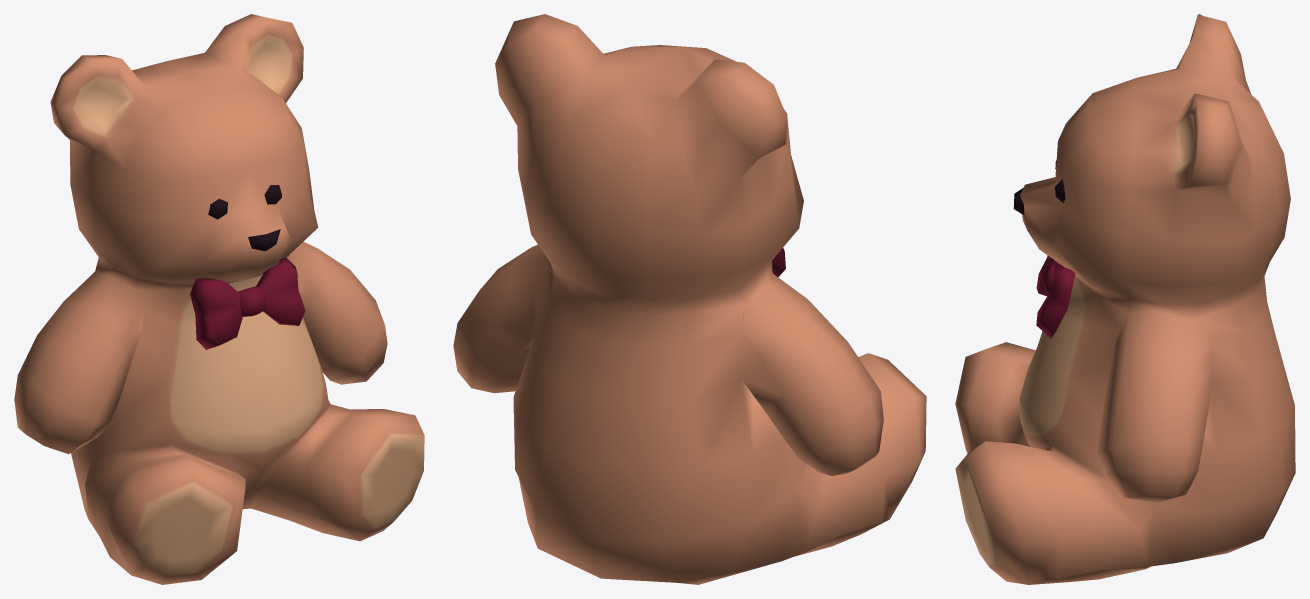
Rendered from Low_poly_asset_Teddy_Bear.glb.
3 views of the same model, side by side, from view 1: azimuth 30°, elevation 25°; view 2: azimuth 150°, elevation 25°; view 3: azimuth 270°, elevation 25° (orthographic). The views are drawn at different scales.
Parts seen in each view (by area): view 1: bear_Teddy Bear_0, Plane_Teddy Bear_0, eye_r.001_Teddy Bear_0; view 2: bear_Teddy Bear_0; view 3: bear_Teddy Bear_0, Plane_Teddy Bear_0.
Part boxes in pixels (bbox=[...]): bear_Teddy Bear_0: bbox=[14, 14, 424, 584]; Plane_Teddy Bear_0: bbox=[190, 257, 305, 349]; eye_r.001_Teddy Bear_0: bbox=[208, 185, 281, 219]; bear_Teddy Bear_0: bbox=[453, 14, 926, 584]; bear_Teddy Bear_0: bbox=[955, 14, 1295, 584]; Plane_Teddy Bear_0: bbox=[1036, 255, 1075, 338].
Size of the model in its own units: 0.3738 by 0.4567 by 0.2999.
Materials: 1 (1 with a texture image).
